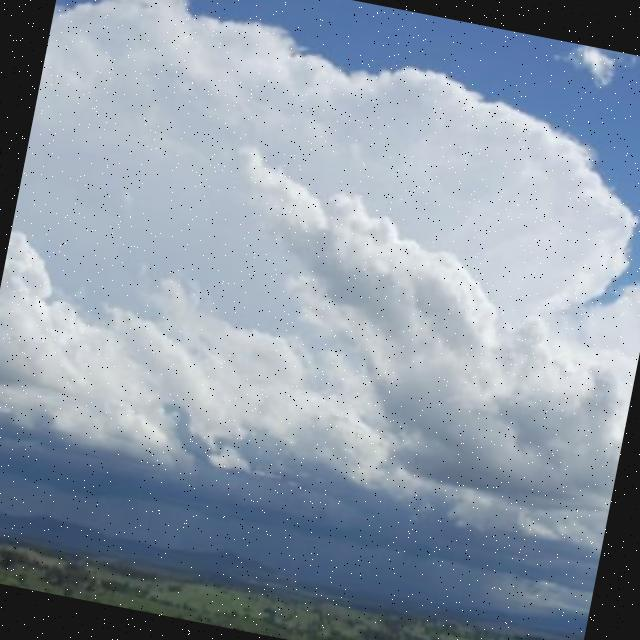Cu: (1, 1, 640, 605)
